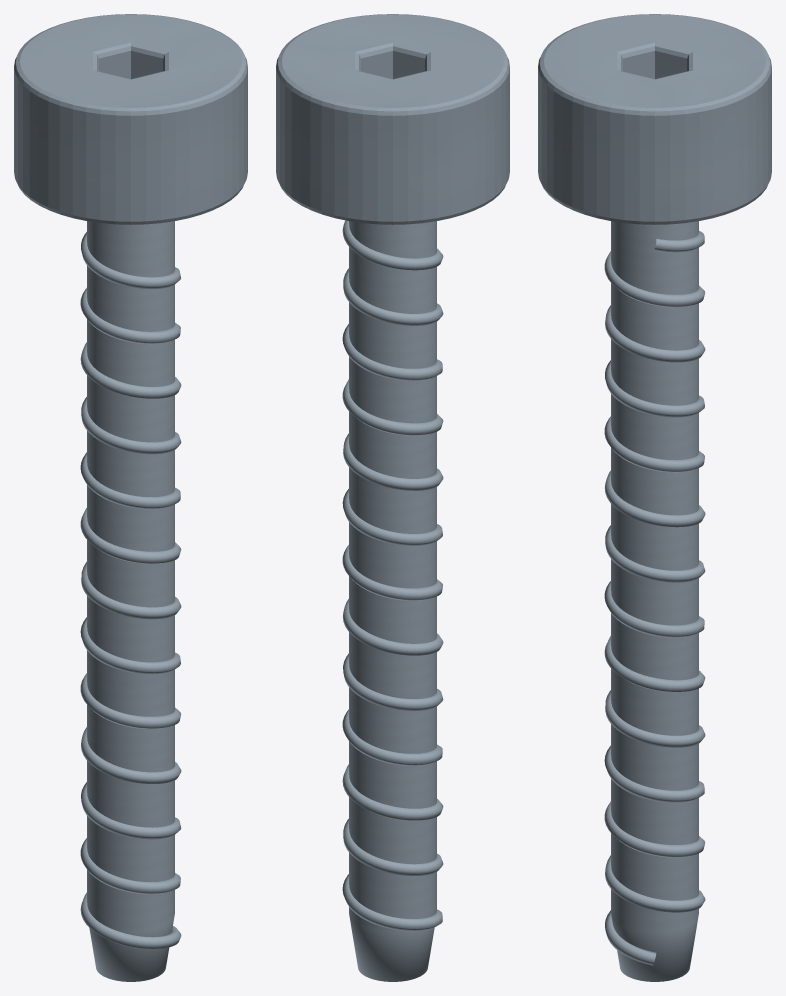
File: fastener.glb
3 renders of one model, left to right at view 1: azimuth 30°, elevation 25°; view 2: azimuth 150°, elevation 25°; view 3: azimuth 270°, elevation 25°, orthographic.
Visible parts, largest first — view 1: ScrewShaft, SocketCapHead, HelicalThread; view 2: ScrewShaft, SocketCapHead, HelicalThread; view 3: ScrewShaft, SocketCapHead, HelicalThread.
Boxes of the visible parts, box(x1,y1,x2,y2) form: ScrewShaft: box(87, 221, 174, 981); SocketCapHead: box(14, 14, 247, 224); HelicalThread: box(80, 232, 181, 948); ScrewShaft: box(349, 221, 436, 981); SocketCapHead: box(276, 14, 509, 224); HelicalThread: box(342, 220, 443, 931); ScrewShaft: box(611, 221, 698, 981); SocketCapHead: box(538, 14, 771, 224); HelicalThread: box(604, 231, 705, 965).
Bounding box in the file's own units: 0.008 × 0.0342 × 0.008.
Materials: 2 (1 with a texture image).
